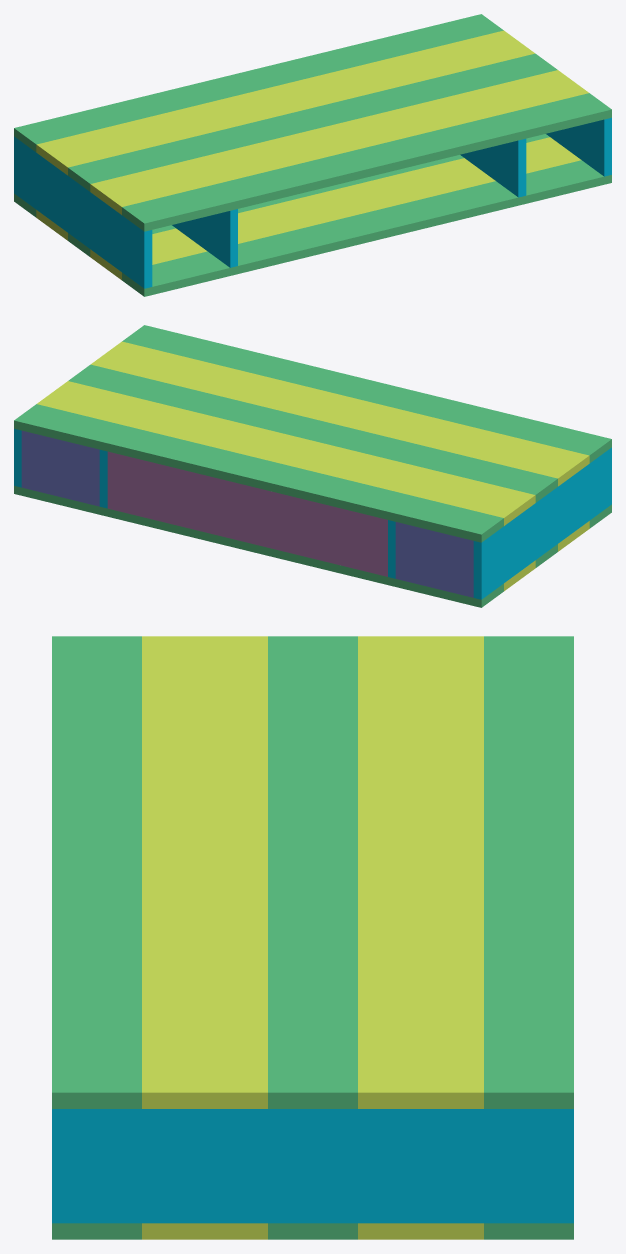
File: assembled.glb
3 views of the same model, one above another, from view 1: azimuth 30°, elevation 25°; view 2: azimuth 150°, elevation 25°; view 3: azimuth 270°, elevation 25° (orthographic). The views are drawn at different scales.
Parts seen in each view (by area): view 1: node_id36, node_id34, node_id32, node_id8, node_id30, node_id28, node_id10, node_id20, node_id26, node_id24, node_id14, node_id6; view 2: node_id18, node_id34, node_id36, node_id28, node_id30, node_id32, node_id20, node_id16, node_id22, node_id4, node_id26, node_id14 (+1 smaller); view 3: node_id14, node_id34, node_id36, node_id28, node_id30, node_id32, node_id10, node_id12, node_id6, node_id8, node_id4.
Boxes of the visible parts, <box> form: node_id36: <box>36,30,534,175</box>; node_id34: <box>90,70,588,214</box>; node_id32: <box>122,93,611,231</box>; node_id8: <box>122,160,611,296</box>; node_id30: <box>68,53,557,191</box>; node_id28: <box>14,14,503,151</box>; node_id10: <box>90,137,581,280</box>; node_id20: <box>14,136,152,288</box>; node_id26: <box>460,138,526,197</box>; node_id24: <box>172,209,237,267</box>; node_id14: <box>546,117,611,176</box>; node_id6: <box>68,134,549,256</box>; node_id18: <box>107,451,387,576</box>; node_id34: <box>91,341,589,486</box>; node_id36: <box>37,381,535,525</box>; node_id28: <box>14,404,503,542</box>; node_id30: <box>68,364,557,502</box>; node_id32: <box>122,325,611,462</box>; node_id20: <box>473,447,611,599</box>; node_id16: <box>21,430,99,506</box>; node_id22: <box>395,522,473,597</box>; node_id4: <box>14,486,503,607</box>; node_id26: <box>99,449,107,508</box>; node_id14: <box>14,428,21,487</box>; node_id14: <box>52,1109,573,1223</box>; node_id34: <box>142,636,267,1108</box>; node_id36: <box>358,636,483,1108</box>; node_id28: <box>484,636,573,1108</box>; node_id30: <box>268,636,357,1108</box>; node_id32: <box>52,636,141,1108</box>; node_id10: <box>142,1223,267,1239</box>; node_id12: <box>358,1223,483,1239</box>; node_id6: <box>268,1223,357,1239</box>; node_id8: <box>52,1223,141,1239</box>; node_id4: <box>484,1223,573,1239</box>.
Size of the model in its own units: 0.512 by 0.0768 by 0.2475.
